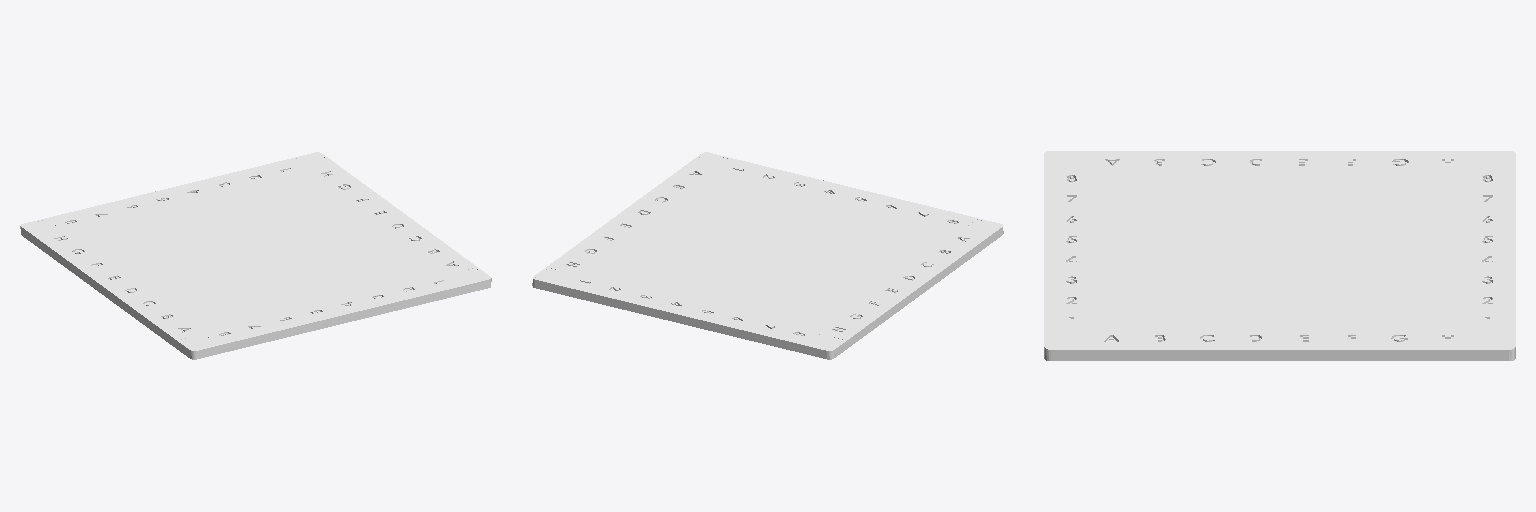
The robot description file, URDF, robot "chessboard":
<robot name="chessboard">
	<link name="_name">
		<visual>
			<origin xyz="0.0 -0.05 0.0" rpy="0 0 0" />
			<geometry>
				<mesh filename="chessboard/chessboard.obj" scale="1 1 1" />
			</geometry>
			<material name="texture">
				<color rgba="1.0 1.0 1.0 1.0" />
			</material>
		</visual>
		<collision>
			<geometry>
				<mesh filename="chessboard/chessboard_vhacd.obj" scale="1 1 1" />
			</geometry>
		<origin xyz="0.0 -0.05 0.0" rpy="0 0 0" /></collision>
		<inertial>
			<mass value="1.0" />
			<inertia ixx="1.0" ixy="0.0" ixz="0.0" iyy="1.0" iyz="0.0" izz="1.0" />
		</inertial>
	</link>
</robot>

--- Facts derived from the render (not from the file) ---
The picture shows the robot from 3 angles, left to right: view 1: azimuth 30°, elevation 25°; view 2: azimuth 150°, elevation 25°; view 3: azimuth 270°, elevation 25°; orthographic projection.
Robot: chessboard — 1 links, 0 joints (none); root link _name; default pose: all joints at 0.
Links seen in each view (by area): view 1: _name; view 2: _name; view 3: _name.
Boxes of the visible links, x1,y1,x2,y2 form: _name: (20, 152, 491, 359); _name: (532, 152, 1003, 359); _name: (1044, 151, 1515, 360).
Size in the robot's own frame: 0.368 by 0.368 by 0.01 metres.
1 mesh visuals loaded from 1 distinct referenced files (1 OBJ).